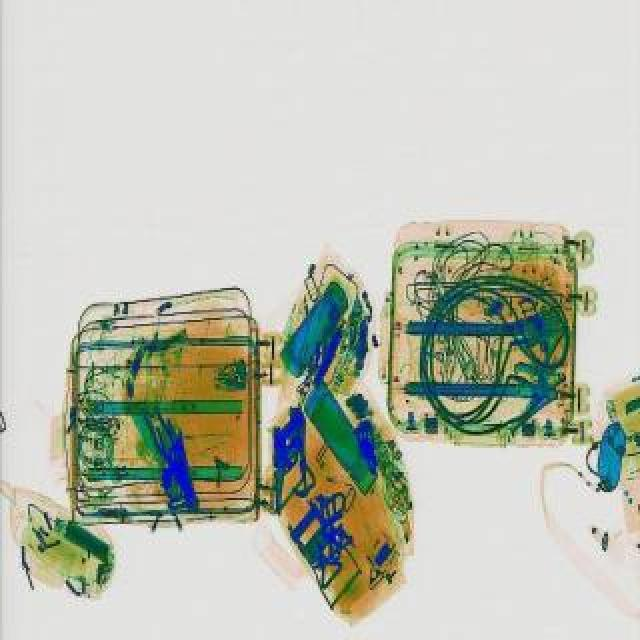wrench: (136, 400, 200, 502)
